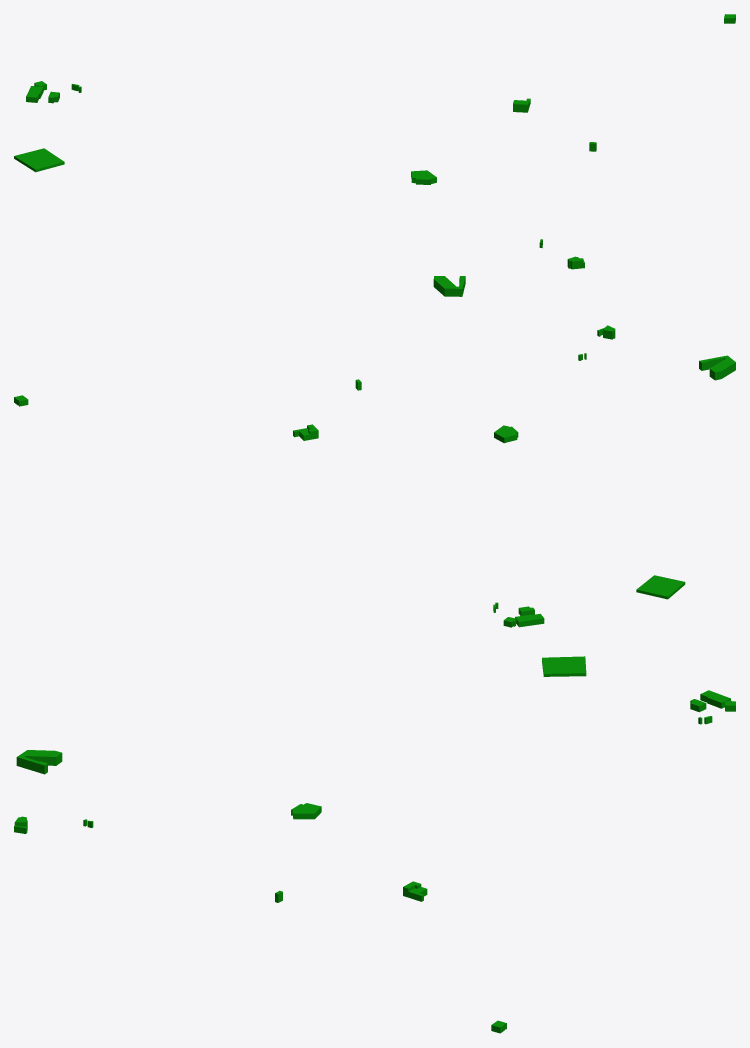
File: OnlyRelig_0.fbx
The picture shows the model from 3 angles, top to bottom: view 1: azimuth 30°, elevation 25°; view 2: azimuth 150°, elevation 25°; view 3: azimuth 270°, elevation 25°; orthographic projection. The views are drawn at different scales.
Visible parts, largest first — view 1: Footprint; view 2: Footprint; view 3: Footprint.
Boxes of the visible parts, x1,y1,x2,y2 form: Footprint: (14,148,64,172); Footprint: (636,575,685,599); Footprint: (542,656,586,676).
Size of the model in its own units: 813 by 9 by 663.
